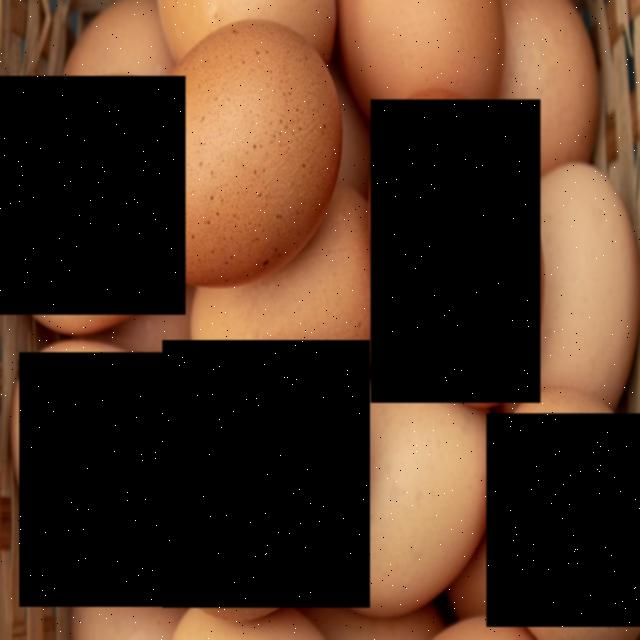Egg: (162, 340, 370, 608), (371, 100, 540, 404), (19, 353, 197, 608), (0, 76, 186, 315), (132, 43, 335, 260), (486, 414, 640, 628)
